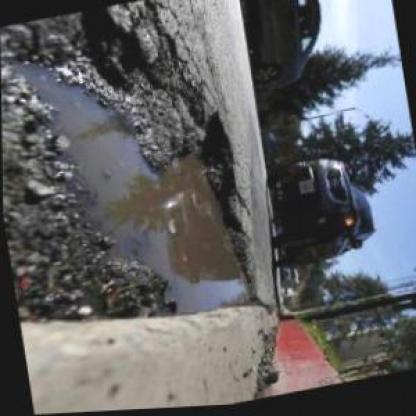pothole: (0, 0, 266, 358)
